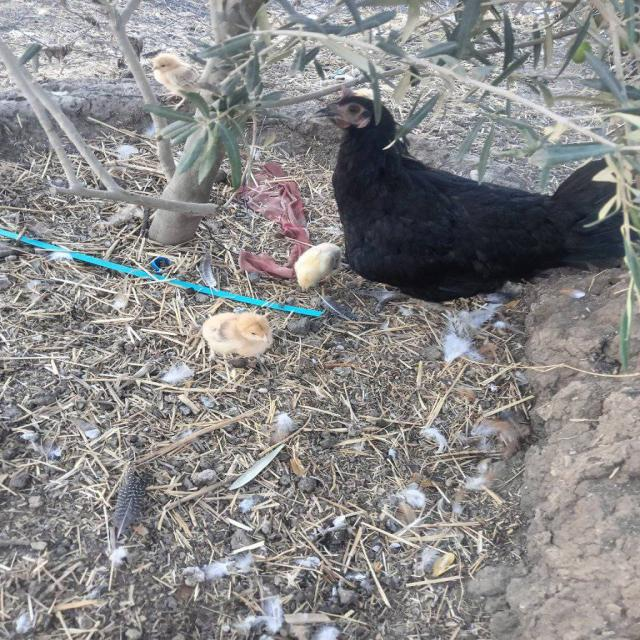Healthy: (307, 82, 634, 304)
